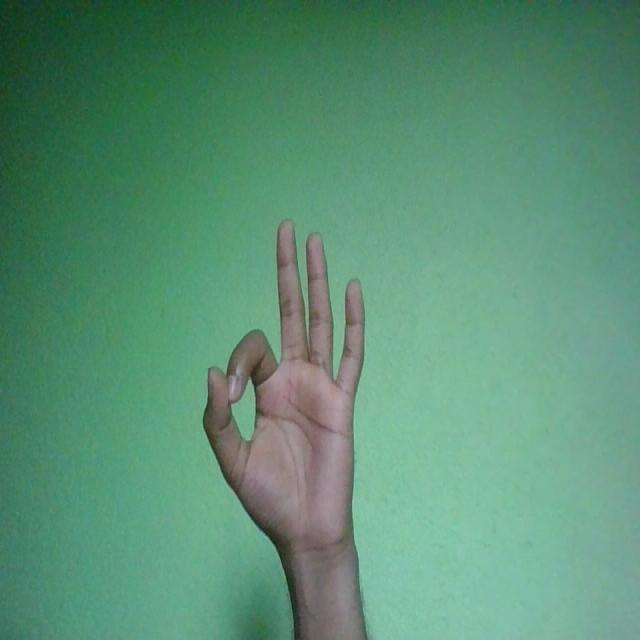Rock On: (203, 218, 366, 563)
